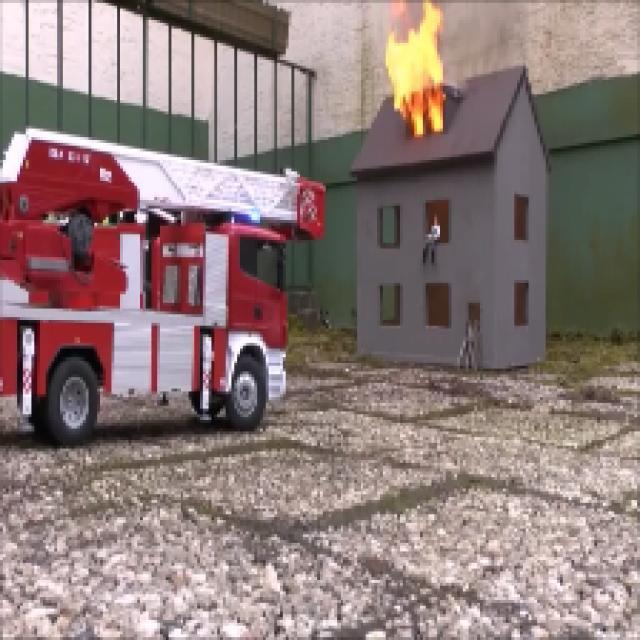Fire: (380, 8, 456, 143)
